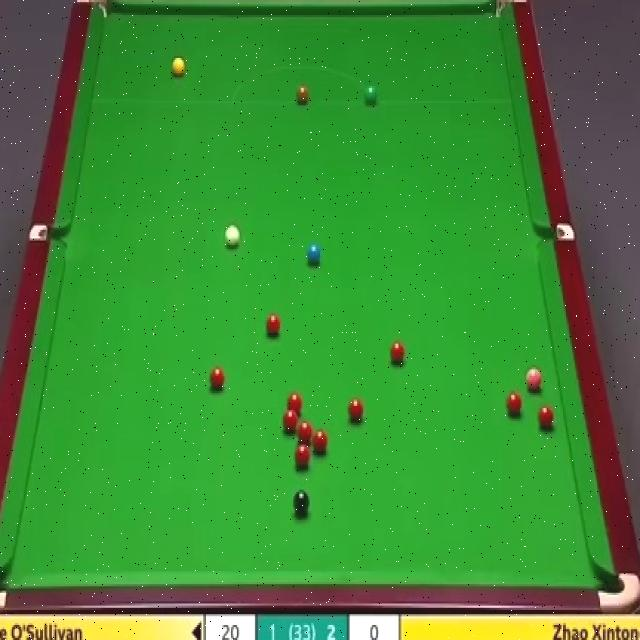black-ball: (292, 488, 311, 524)
blue-ball: (308, 243, 322, 265)
brown-ball: (295, 84, 309, 105)
green-ball: (364, 84, 380, 106)
pink-ball: (526, 368, 543, 389)
red-ball: (208, 366, 226, 391), (265, 312, 281, 338), (388, 340, 406, 363), (505, 391, 523, 414), (296, 442, 310, 471), (308, 426, 324, 450), (538, 405, 554, 429), (286, 391, 302, 414), (344, 401, 358, 426), (298, 420, 312, 444), (281, 409, 298, 428)
white-ball: (223, 224, 241, 250)
yellow-ball: (172, 57, 184, 79)
